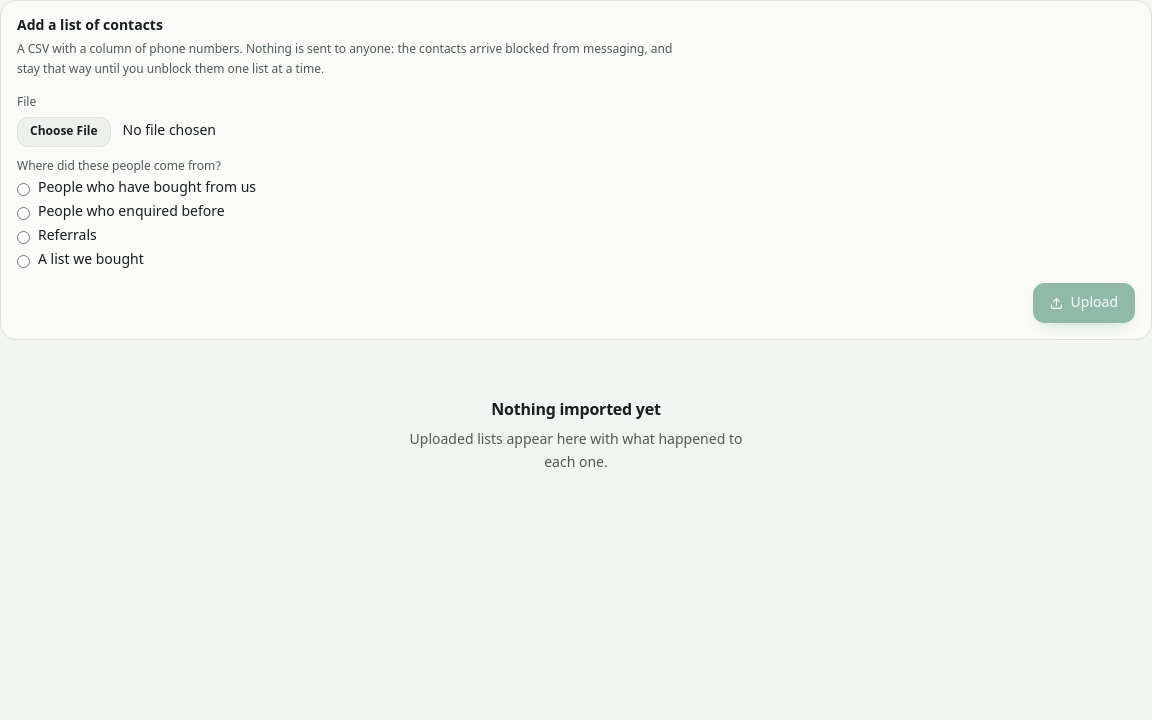
Test: upload › warns before a bought list is uploaded, not after
Click the radio button labelled "A list we bought".
click(24, 261)  # box [17,254,30,268]
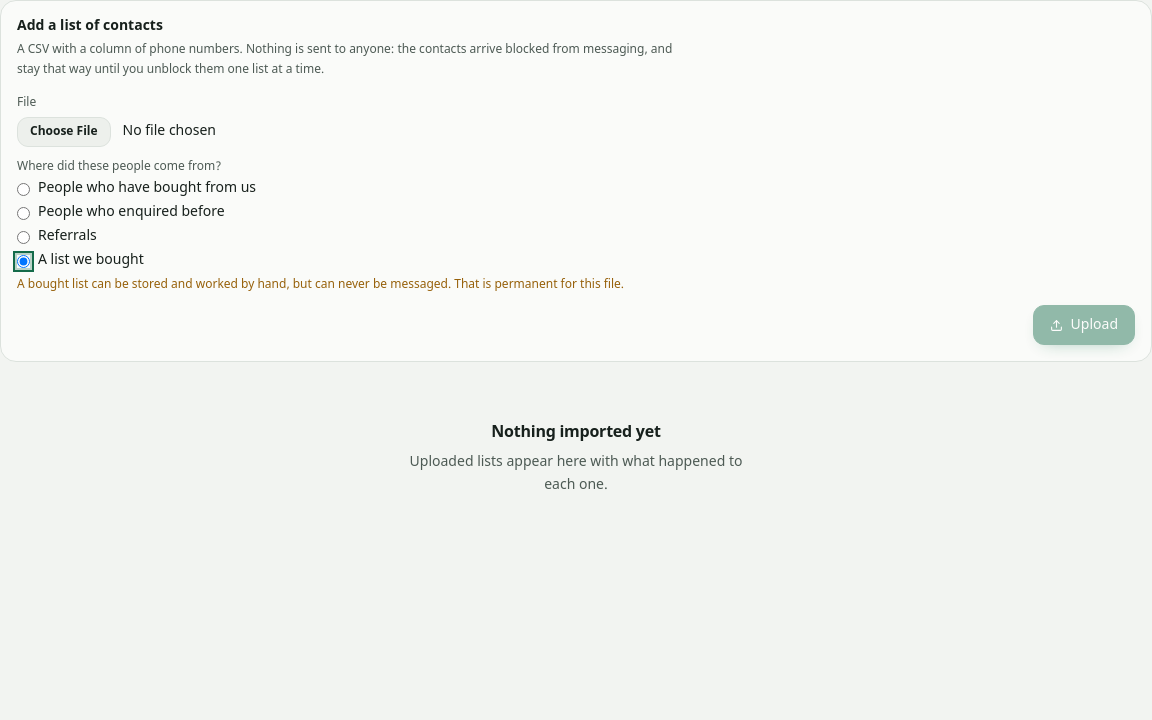
Check: the message shows "can never be messaged", box [17,277,624,293]
